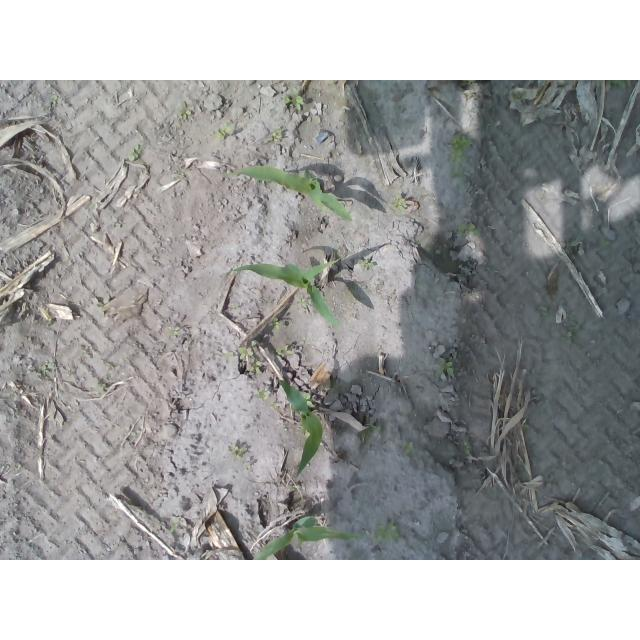Maize: (233, 255, 339, 330), (223, 166, 353, 223), (276, 376, 324, 480), (255, 517, 366, 560)
Weeds: (449, 134, 475, 175), (376, 521, 401, 543), (222, 347, 254, 362), (459, 222, 481, 242), (565, 238, 587, 258), (558, 331, 578, 347), (214, 124, 234, 140), (281, 95, 304, 106), (275, 345, 294, 358), (440, 360, 455, 376), (230, 444, 246, 458), (129, 144, 142, 161), (247, 359, 262, 373), (266, 131, 283, 143), (360, 258, 375, 271), (41, 363, 56, 374), (168, 523, 179, 537), (461, 441, 471, 456), (255, 390, 269, 400), (403, 441, 413, 455), (180, 109, 193, 119), (370, 424, 383, 434), (304, 393, 313, 407), (269, 318, 280, 329), (395, 199, 406, 210), (169, 327, 181, 337), (296, 298, 309, 307)
